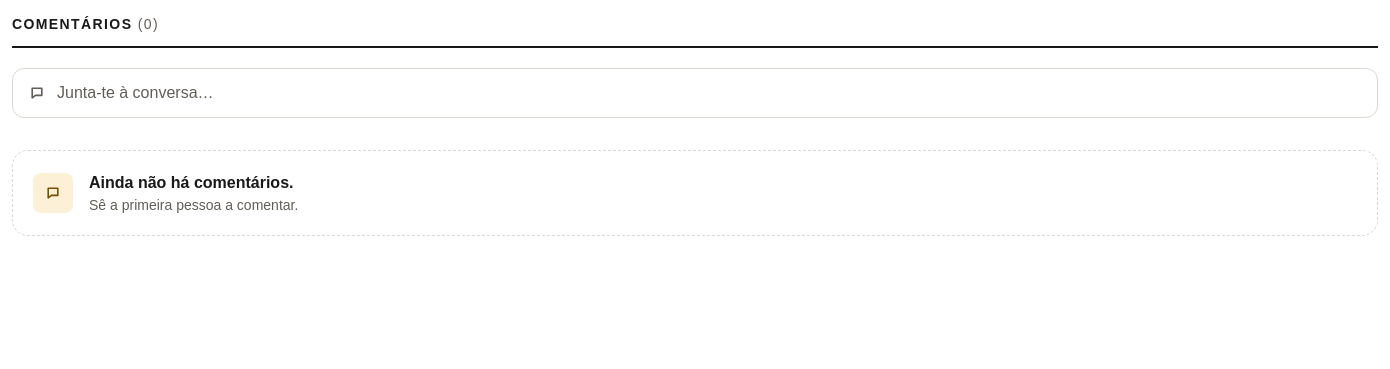
Test: comments › with an account › posts a comment without blanking the page, then closes the box
The width and height of the screenshot is (1390, 369).
Click the button "Junta-te à conversa…" at {"x": 135, "y": 92}, box [12,68,1378,118]
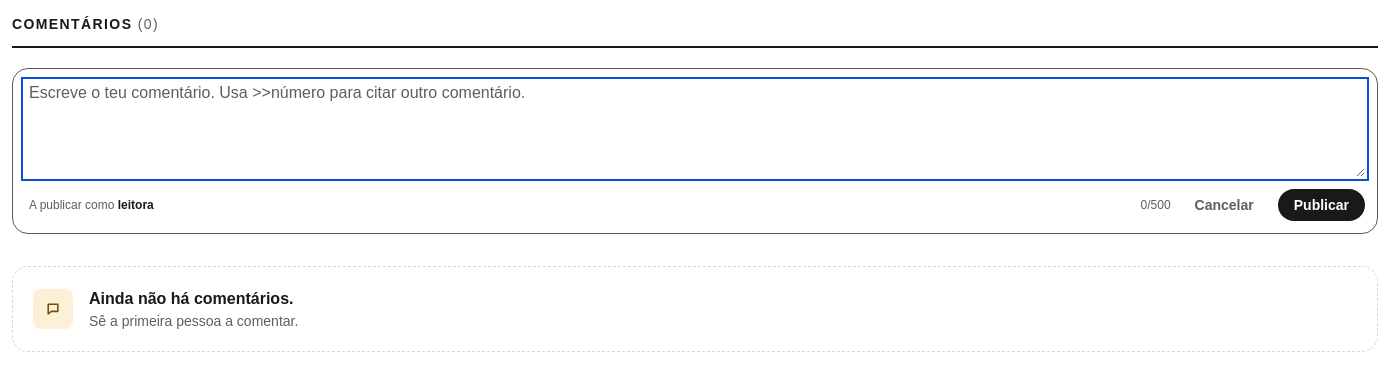
Expected: the text "leitora" is shown, [118,198,154,212]
Type "Novo comentário" into the text box labelled "comentário" at {"x": 695, "y": 129}, box [25,81,1365,177]
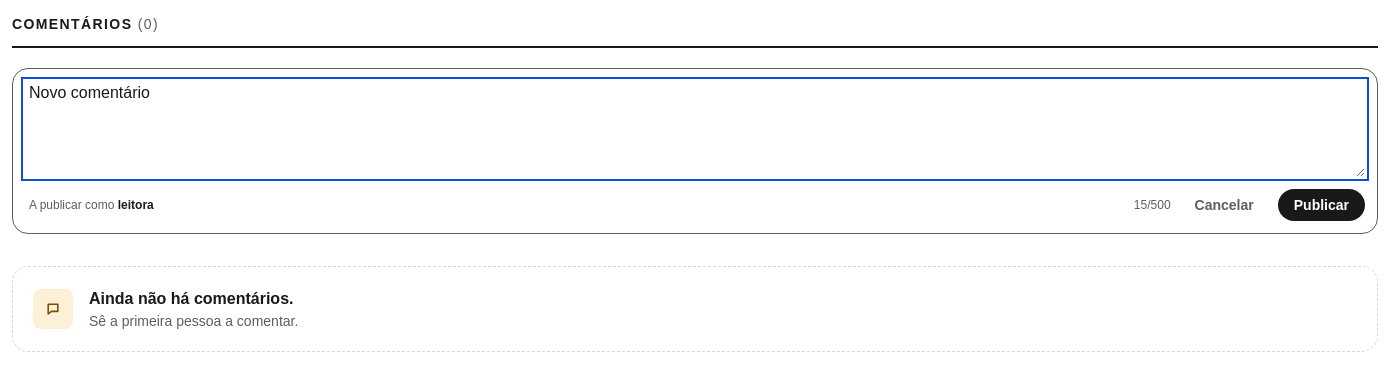
Click the button "Publicar" at {"x": 1321, "y": 205}, box [1278,189,1365,221]
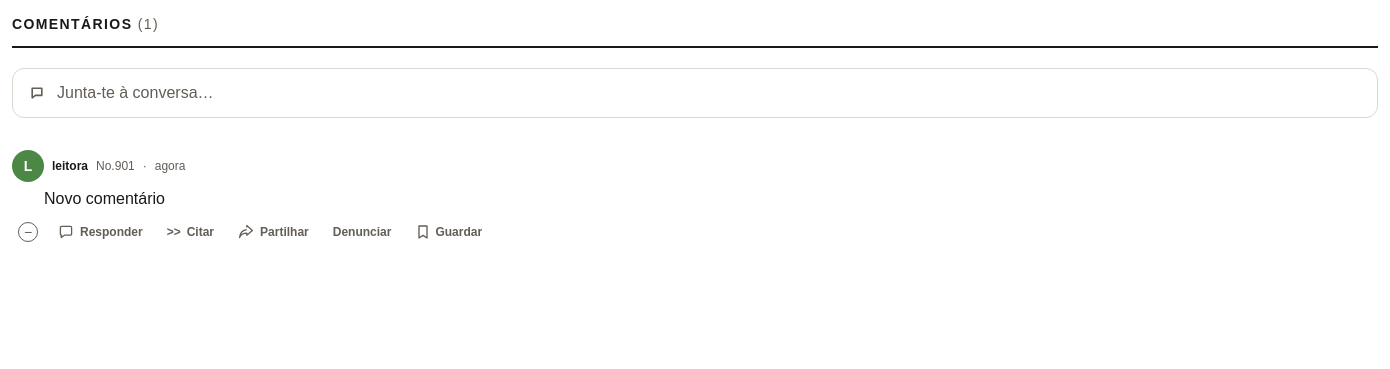
Expected: the text "Novo comentário" is shown, [44,190,165,207]
Expected: the button "Junta-te à conversa…" is shown, [12,68,1378,118]
